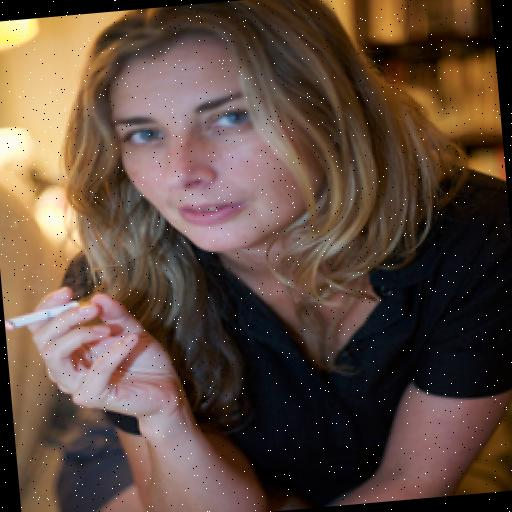terdeteksi pegang rokok: (0, 253, 129, 422)
